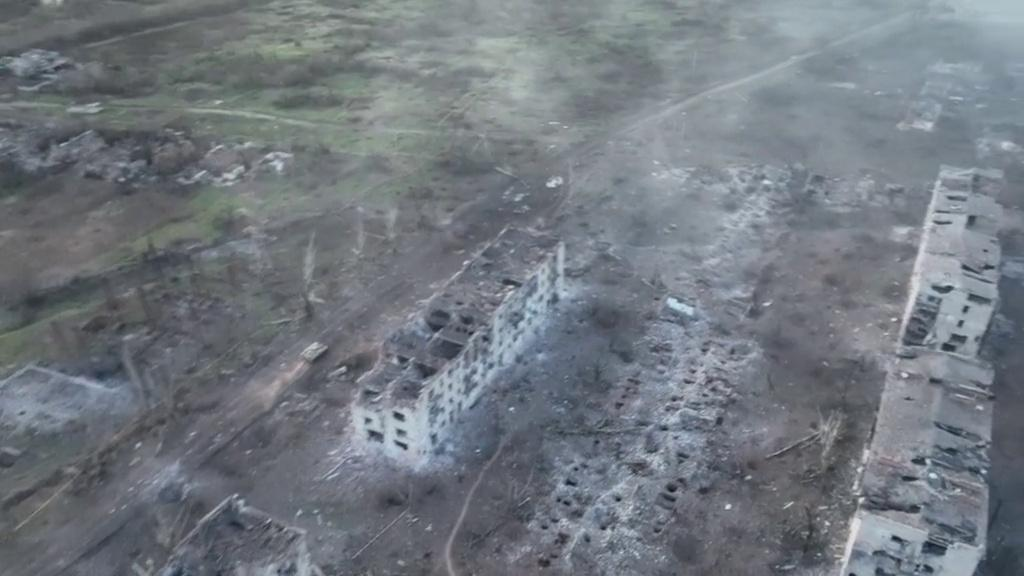vehicle: (300, 342, 330, 364)
